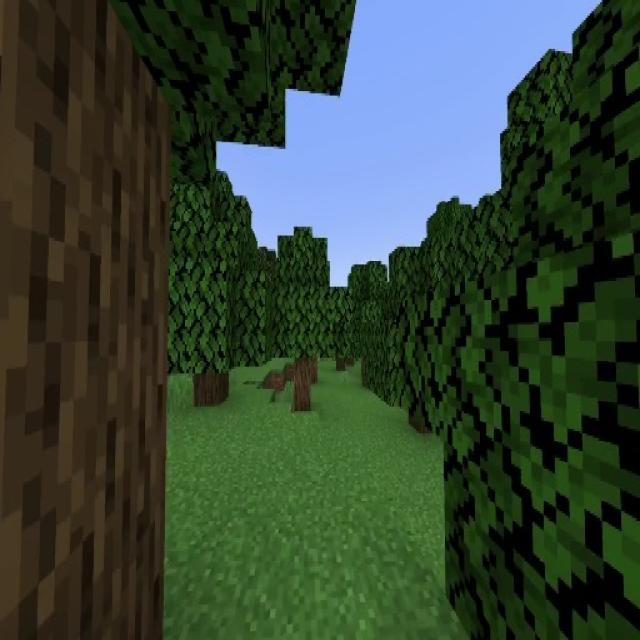oak: (135, 162, 274, 408), (254, 225, 350, 410)
oak_log: (0, 0, 173, 640), (194, 370, 229, 407), (294, 357, 310, 411)
